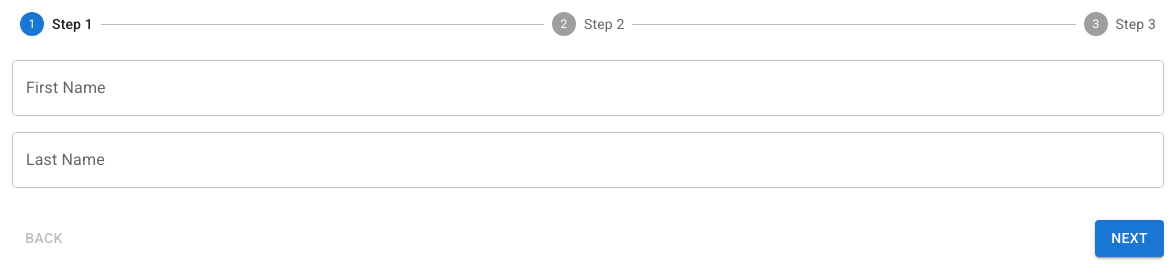
Test: StepperForm › Navigation › should navigate to next step on Next button click
Click the button "Next": point(1130, 238) [1095,220,1164,256]
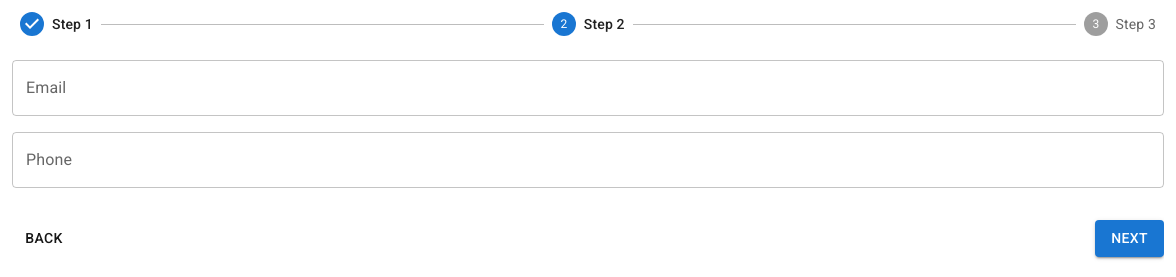
Expected: the field labelled "Email" is shown, [12,60,1164,116]
